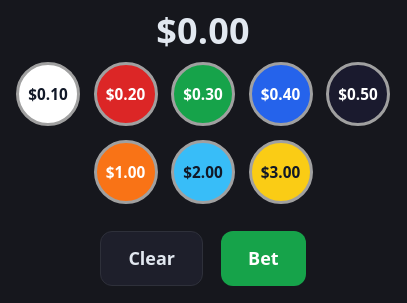
Test: ChipPicker › tapping a chip adds its denomination to the total
Click the button with test id "chip-0.10". click: coordinates (48, 94)
box: [16, 62, 80, 126]
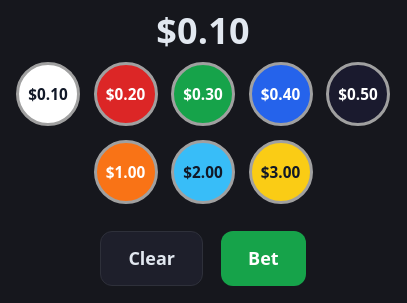
Result: the text with test id "chip-total" reads "$0.10" at [156, 6, 250, 55]
